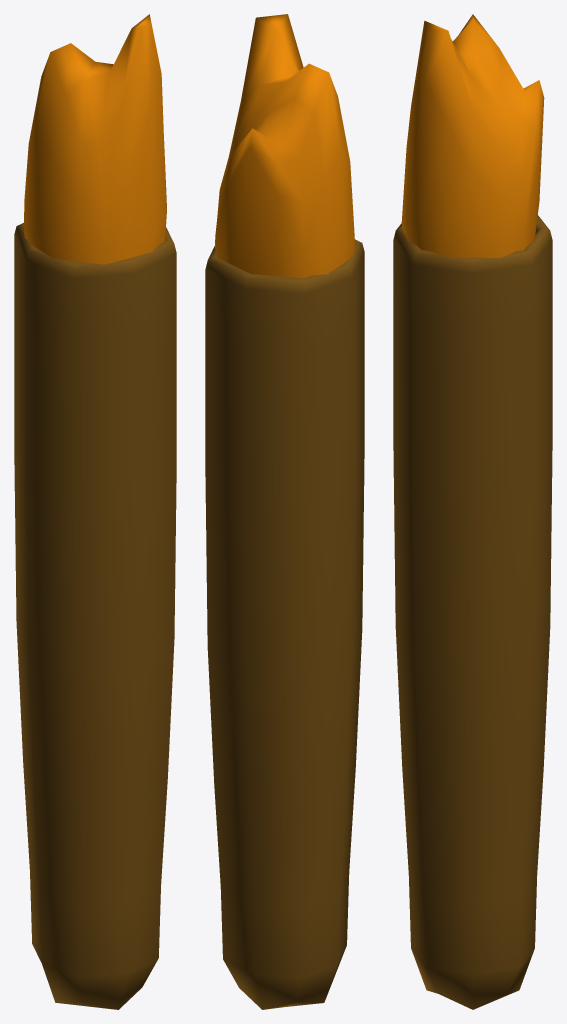
File: fakkel.fbx
The picture shows the model from 3 angles, left to right: view 1: azimuth 30°, elevation 25°; view 2: azimuth 150°, elevation 25°; view 3: azimuth 270°, elevation 25°; orthographic projection. The views are drawn at different scales.
Parts seen in each view (by area): view 1: pCube3; view 2: pCube3; view 3: pCube3.
Part boxes in pixels (x1,y1,x2,y2): pCube3: (14,14,176,1009); pCube3: (205,14,364,1009); pCube3: (393,14,552,1009).
Size of the model in its own units: 0.9257 by 6.38 by 0.9257.
